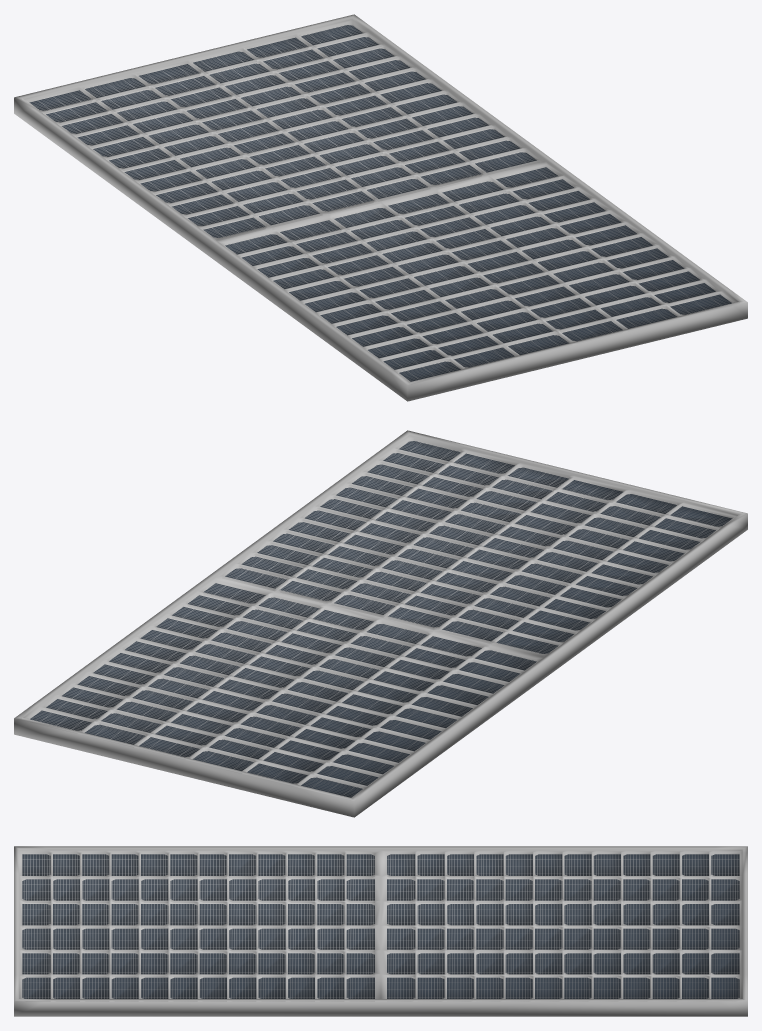
File: SolarPanel.obj
3 views of the same model, one above another, from view 1: azimuth 30°, elevation 25°; view 2: azimuth 150°, elevation 25°; view 3: azimuth 270°, elevation 25° (orthographic). The views are drawn at different scales.
Size of the model in its own units: 39.06 by 1.77 by 78.19.
Materials: 1 (1 with a texture image).
